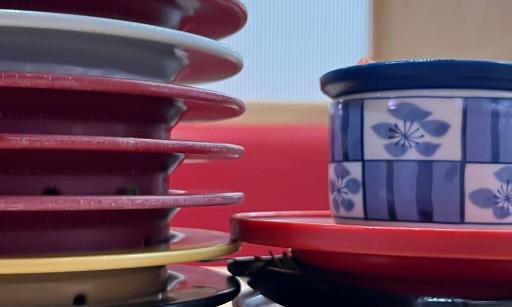Jangold: (0, 260, 186, 302)
Janred: (271, 211, 512, 261), (0, 76, 202, 129), (0, 135, 188, 186), (0, 199, 184, 246)
Janwhite: (0, 20, 211, 74)
